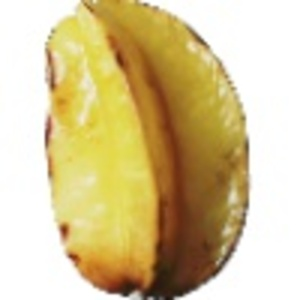carambola: (44, 1, 252, 300)
